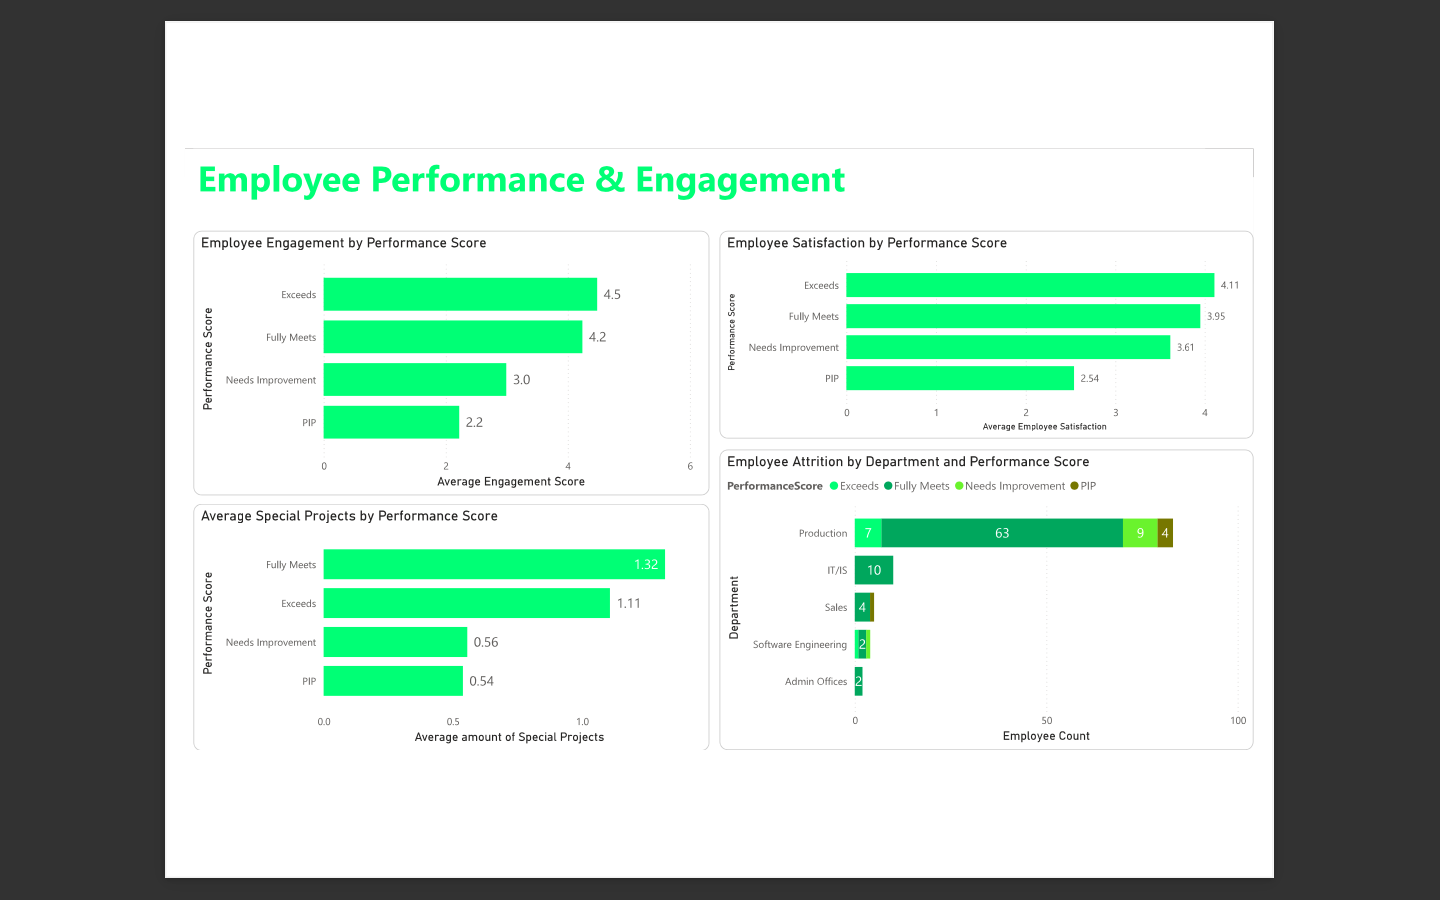

The dashboard page shown, as its layout file describes it:
{"tool":"powerbi","page":{"name":"Engagment and Performance","canvas":[1280,720],"ordinal":2},"visuals":[{"type":"textbox","box":[10,0,1211.7,73.3],"z":0},{"type":"clusteredBarChart","title":"Employee Engagement by Performance Score","fields":{"Category":["HRDataset_v14.PerformanceScore"],"Y":["Avg(HRDataset_v14.EngagementSurvey)"]},"box":[10,98.3,618.3,316.7],"z":1000},{"type":"clusteredBarChart","title":"Employee Satisfaction by Performance Score","fields":{"Category":["HRDataset_v14.PerformanceScore"],"Y":["Avg(HRDataset_v14.EmpSatisfaction)"]},"box":[640,98.3,640,248.3],"z":2000},{"type":"clusteredBarChart","title":"Average Special Projects by Performance Score","fields":{"Category":["HRDataset_v14.PerformanceScore"],"Y":["Avg(HRDataset_v14.SpecialProjectsCount)"]},"box":[10.1,425,618.2,295.6],"z":3000},{"type":"barChart","title":"Employee Attrition by Department and Performance Score ","fields":{"Category":["HRDataset_v14.Department"],"Y":["CountNonNull(HRDataset_v14.EmpID)"],"Series":["HRDataset_v14.PerformanceScore"]},"box":[640,360,640,360],"z":4000}]}

Visuals, with their boxes on the page's 1280x720 design canvas (x1, y1, x2, y2). These are canvas units, not pixel positions in the 1440x900 screenshot, which may show the page scaled, cropped or inside an application window:
textbox: bbox=[10, 0, 1222, 73]
"Employee Engagement by Performance Score" clusteredBarChart: bbox=[10, 98, 628, 415]
"Employee Satisfaction by Performance Score" clusteredBarChart: bbox=[640, 98, 1280, 347]
"Average Special Projects by Performance Score" clusteredBarChart: bbox=[10, 425, 628, 721]
"Employee Attrition by Department and Performance Score " barChart: bbox=[640, 360, 1280, 720]
